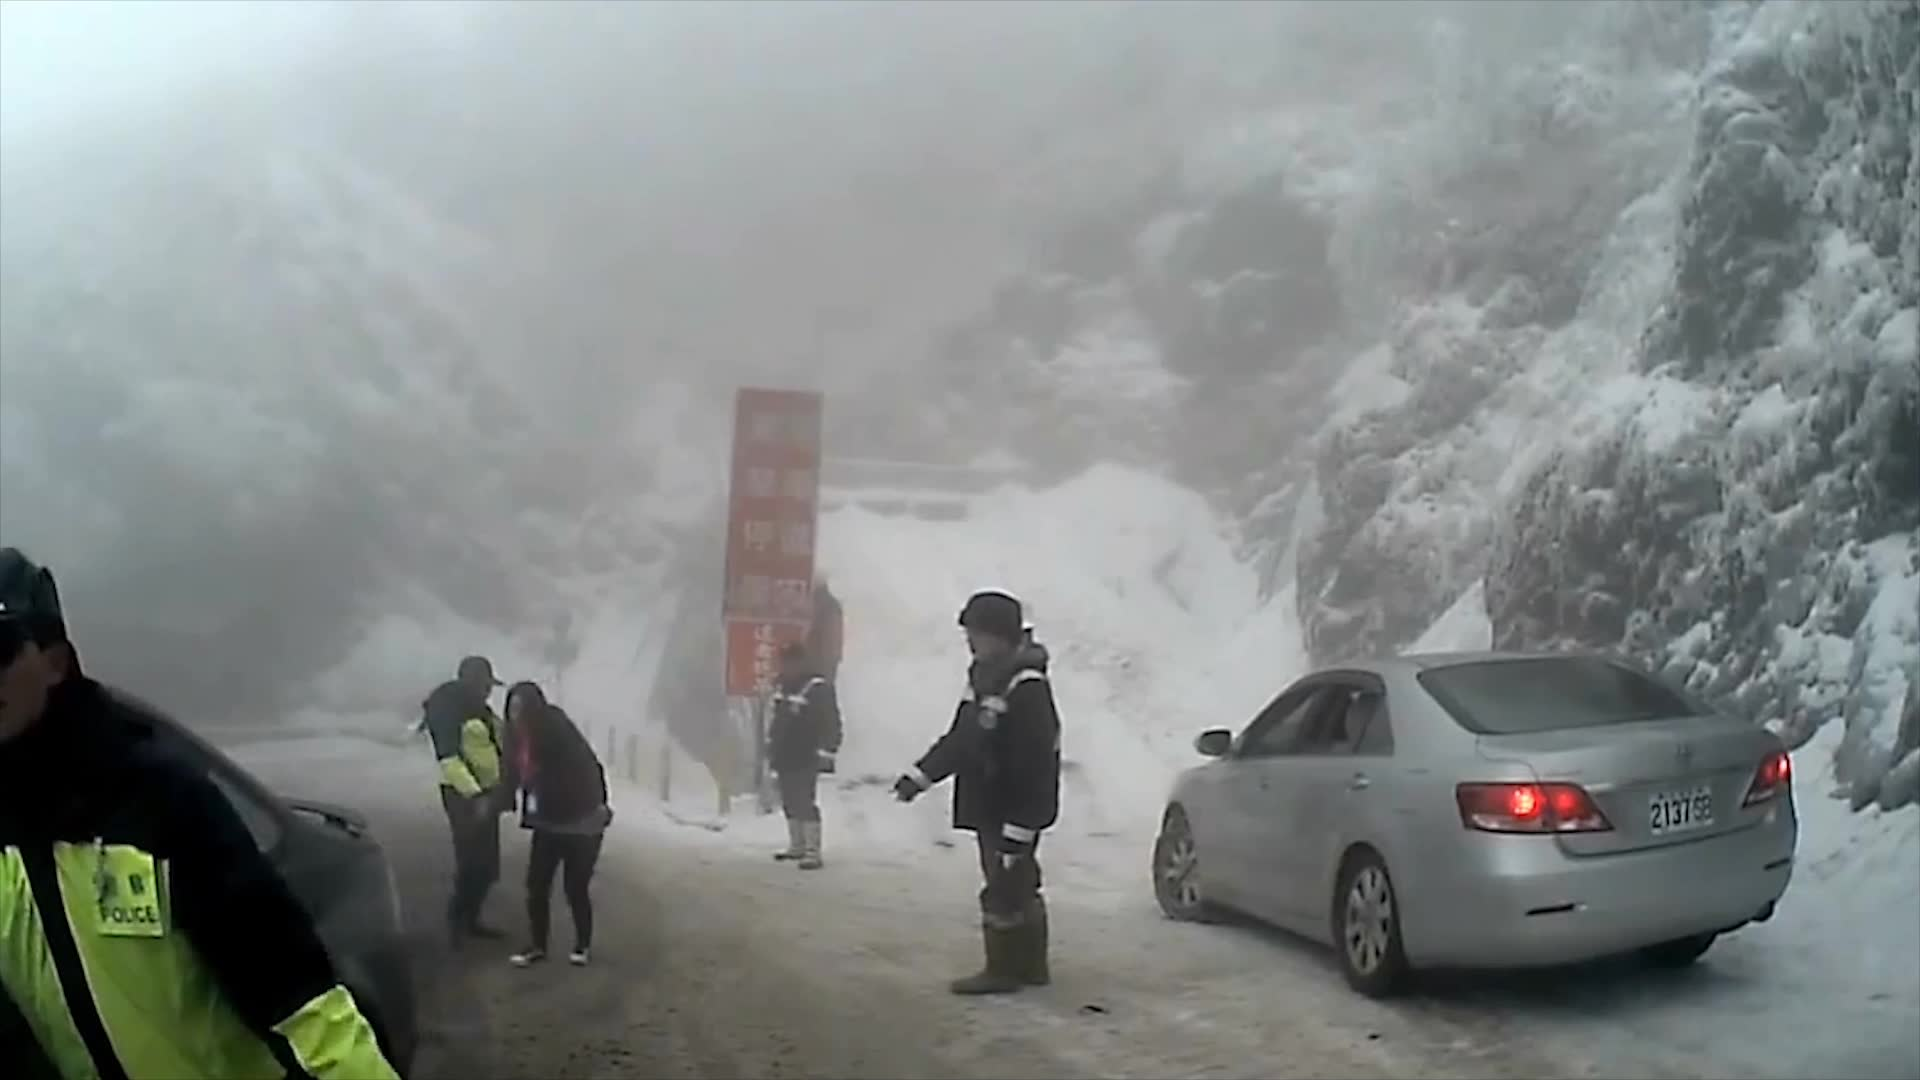pedestrian: (1, 554, 384, 1080), (895, 586, 1065, 999), (491, 679, 616, 965), (417, 657, 532, 939), (764, 636, 842, 872), (785, 564, 847, 743)
vehicle: (1146, 648, 1798, 998), (0, 663, 415, 1079)
